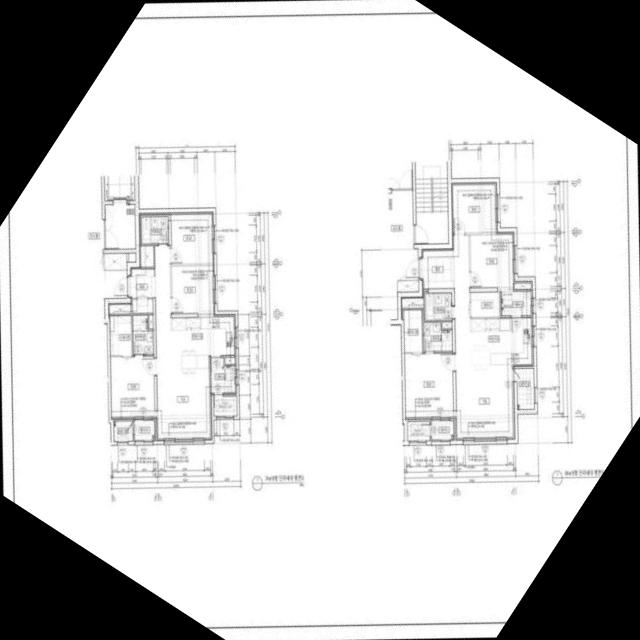background: (0, 0, 640, 640)
space_balconi: (431, 420, 454, 440), (134, 420, 154, 440)
space_bedroom: (404, 353, 453, 419), (110, 356, 154, 419), (470, 232, 514, 287), (451, 182, 497, 233), (170, 212, 213, 263), (171, 265, 214, 313)
space_dressroom: (110, 315, 131, 355), (403, 309, 422, 352)
space_elevator: (104, 175, 134, 205)
space_elevator_hall: (80, 176, 135, 298), (388, 193, 418, 319)
space_front: (420, 249, 454, 289), (128, 267, 155, 313)
space_kitchen: (171, 314, 235, 374), (470, 317, 533, 367)
space_living_room: (452, 235, 514, 440), (154, 245, 211, 440)
space_multipurpose_space: (210, 357, 236, 394), (501, 291, 532, 315)
space_other: (471, 292, 500, 317), (401, 297, 424, 320), (213, 395, 236, 416), (407, 421, 430, 440), (103, 253, 126, 270), (139, 246, 153, 267), (397, 280, 418, 292), (108, 303, 131, 313), (514, 281, 532, 289), (225, 357, 236, 364), (442, 322, 452, 328), (149, 315, 153, 328)
space_outdoor_room: (513, 368, 534, 409), (113, 421, 132, 441)
space_staircase: (415, 161, 448, 244)
space_toilet: (423, 322, 452, 351), (132, 315, 153, 354), (141, 216, 168, 244), (425, 293, 451, 320)
